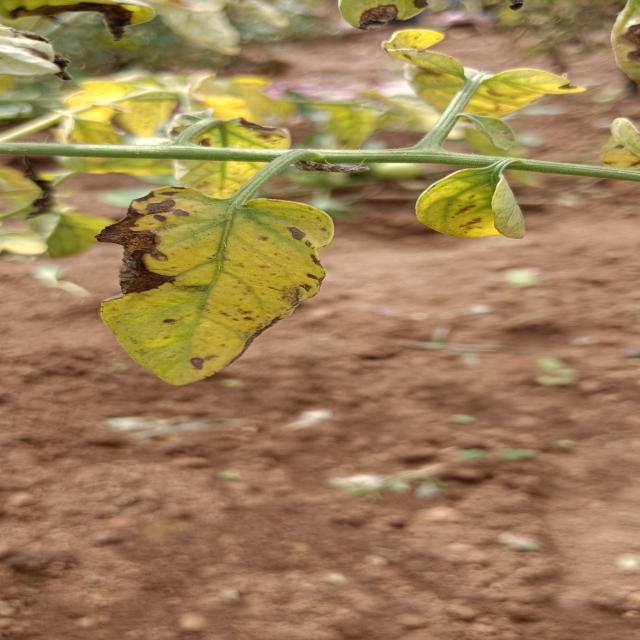tomato_early blight: (101, 183, 324, 384), (394, 24, 584, 130), (161, 110, 289, 210), (408, 159, 534, 242)
